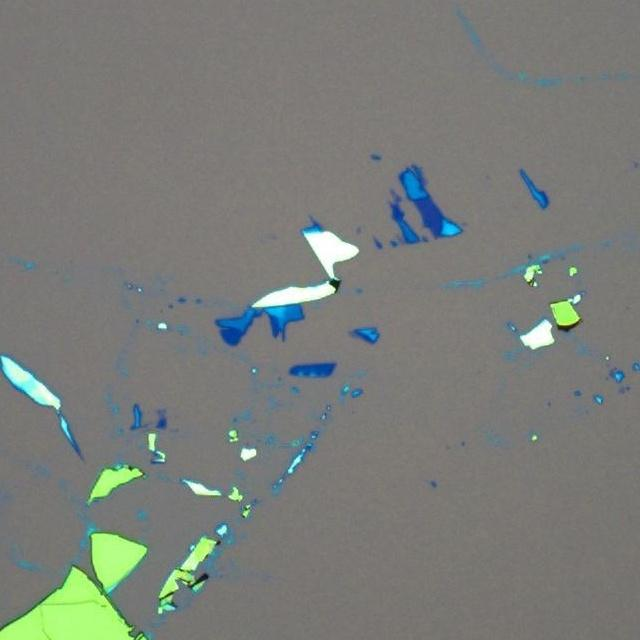monolayer-eWW4: (348, 330, 360, 340), (156, 408, 166, 418)
